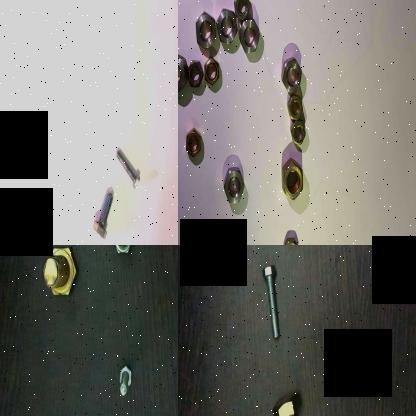Bolts: (342, 324, 379, 404), (258, 258, 290, 344), (40, 245, 80, 309), (115, 142, 143, 194), (91, 188, 117, 242), (112, 349, 138, 397), (271, 386, 311, 416), (110, 245, 135, 264)
NUTS: (280, 155, 307, 202), (280, 54, 308, 94), (223, 164, 247, 208), (236, 16, 262, 56), (194, 10, 218, 50), (216, 10, 238, 45), (184, 57, 205, 90), (204, 53, 223, 86), (284, 92, 306, 120), (288, 118, 310, 145), (184, 126, 202, 158), (230, 0, 251, 25), (178, 51, 189, 92), (281, 232, 301, 245)
